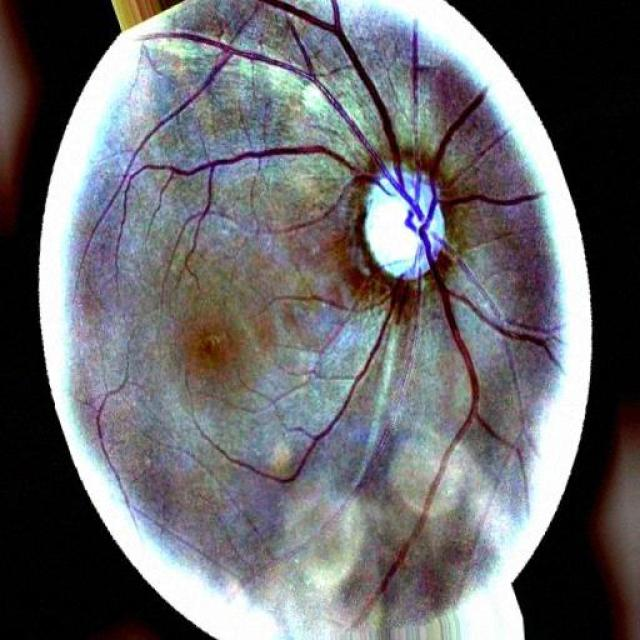Macula: (186, 325, 235, 372)
Nerves: (122, 0, 559, 592), (221, 279, 404, 482)
Optic Disk: (362, 166, 444, 279)
